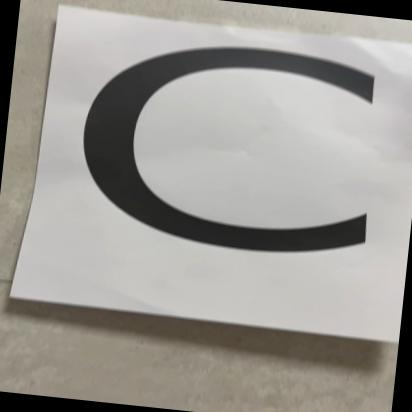seat: (28, 3, 412, 342)
